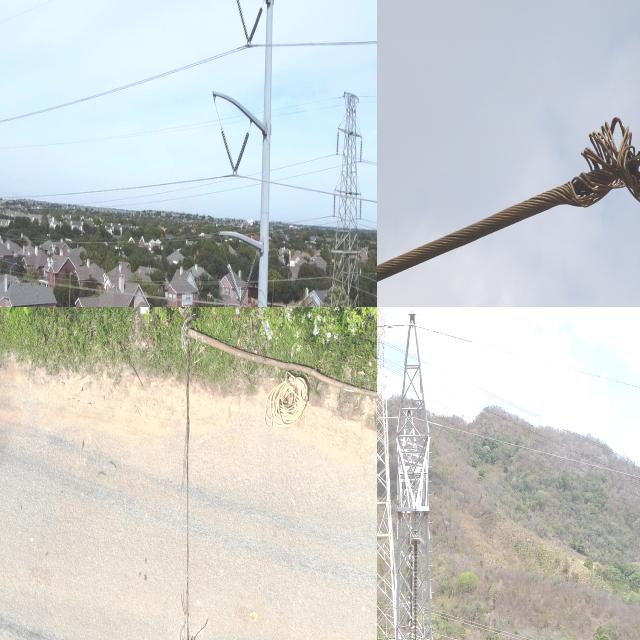杆塔: (393, 307, 452, 640), (306, 78, 374, 307), (377, 307, 418, 640)
正常绝缘子: (241, 0, 272, 55), (214, 115, 240, 179), (229, 124, 255, 181), (221, 248, 246, 307), (233, 251, 259, 307), (232, 0, 251, 49), (411, 537, 420, 640), (356, 134, 366, 166), (333, 126, 341, 158), (331, 186, 338, 222), (356, 194, 364, 224)
电缆破损: (498, 98, 640, 246), (164, 307, 210, 640)
